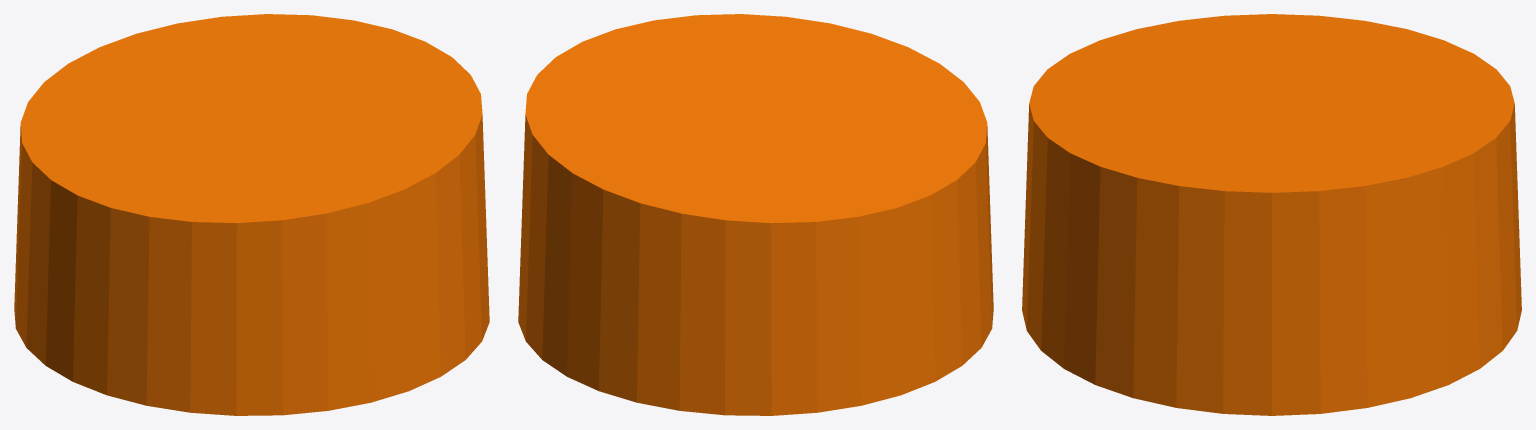
Rendered from stand_collision.dae.
3 views of the same model, side by side, from view 1: azimuth 30°, elevation 25°; view 2: azimuth 150°, elevation 25°; view 3: azimuth 270°, elevation 25° (orthographic). The views are drawn at different scales.
Parts seen in each view (by area): view 1: stand_collision; view 2: stand_collision; view 3: stand_collision.
Part boxes in pixels (x1=…): stand_collision: x1=14, y1=14, x2=489, y2=415; stand_collision: x1=518, y1=14, x2=993, y2=415; stand_collision: x1=1022, y1=14, x2=1521, y2=415.
Size of the model in its own units: 0.0515 by 0.0515 by 0.025.
